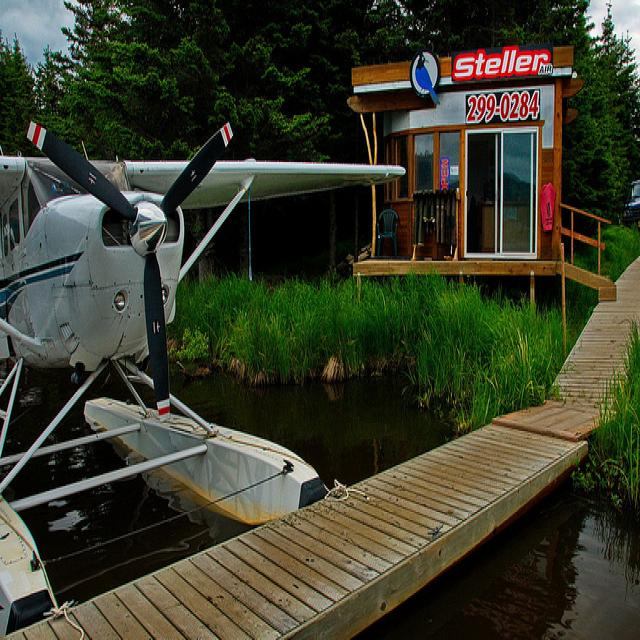Vehicle: (621, 180, 640, 226)
